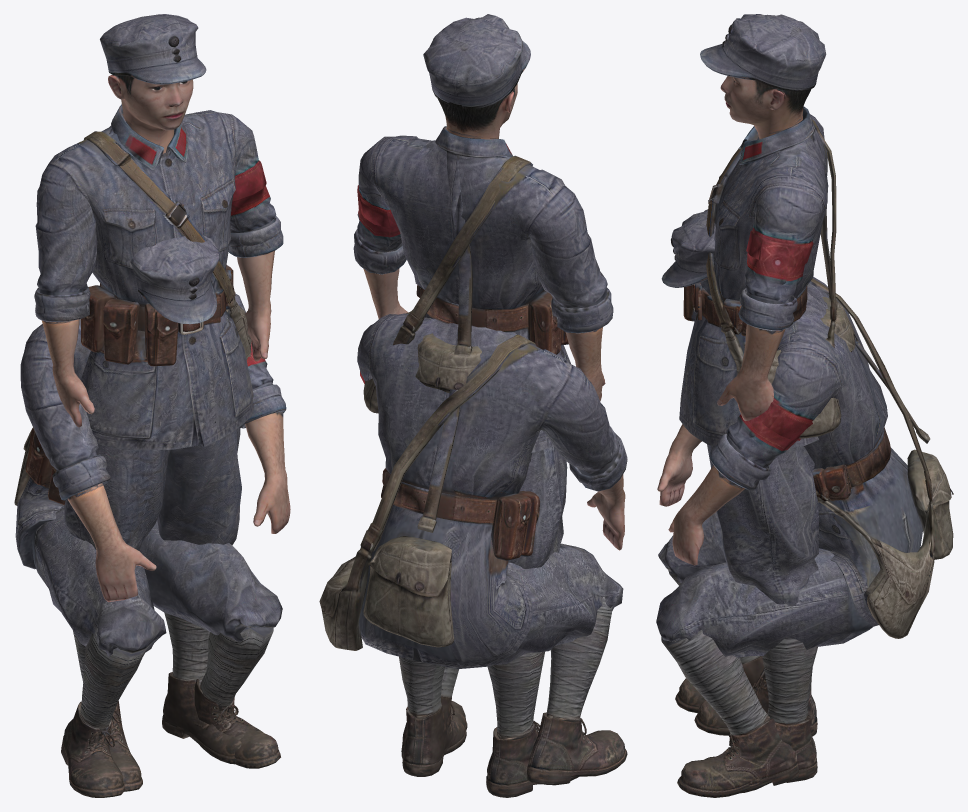
The model's file is ProvidedPlayer.glb.
The picture shows the model from 3 angles, left to right: view 1: azimuth 30°, elevation 25°; view 2: azimuth 150°, elevation 25°; view 3: azimuth 270°, elevation 25°; orthographic projection.
Visible parts, largest first — view 1: PlayerStandingBody, PlayerCrouchingBody, PlayerStandingHead, PlayerCrouchingHead; view 2: PlayerCrouchingBody, PlayerStandingBody, PlayerStandingHead; view 3: PlayerCrouchingBody, PlayerStandingBody, PlayerStandingHead, PlayerCrouchingHead.
Part boxes in pixels (bbox=[...]): PlayerStandingBody: bbox=[34, 110, 283, 791]; PlayerCrouchingBody: bbox=[14, 293, 290, 797]; PlayerStandingHead: bbox=[100, 14, 206, 170]; PlayerCrouchingHead: bbox=[130, 235, 219, 324]; PlayerCrouchingBody: bbox=[319, 313, 627, 785]; PlayerStandingBody: bbox=[353, 135, 613, 797]; PlayerStandingHead: bbox=[422, 14, 530, 219]; PlayerCrouchingBody: bbox=[656, 276, 953, 797]; PlayerStandingBody: bbox=[679, 114, 857, 793]; PlayerStandingHead: bbox=[700, 14, 827, 177]; PlayerCrouchingHead: bbox=[661, 209, 827, 310].
Bounding box in the file's own units: 0.6321 × 1.8 × 0.6606.
1 material, 1 textured.
